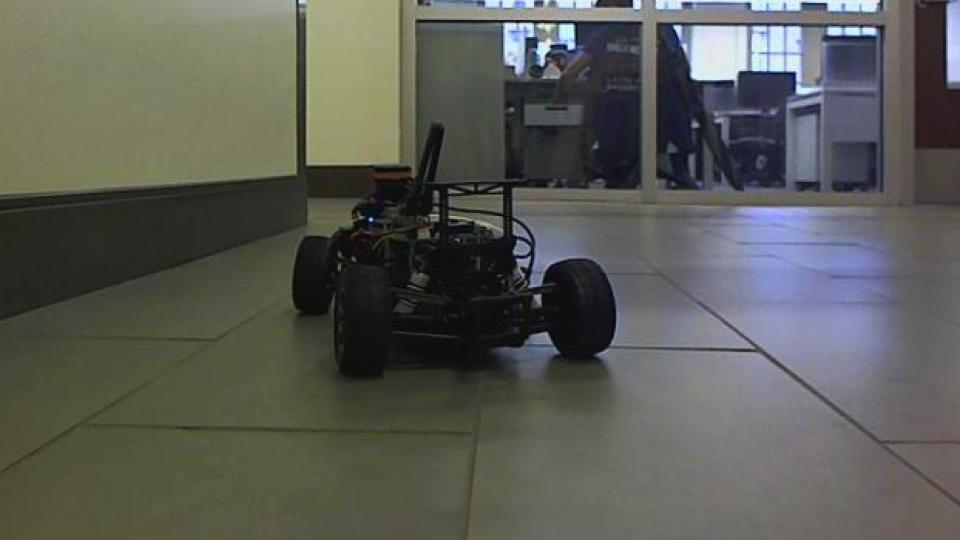car: (290, 119, 621, 379)
